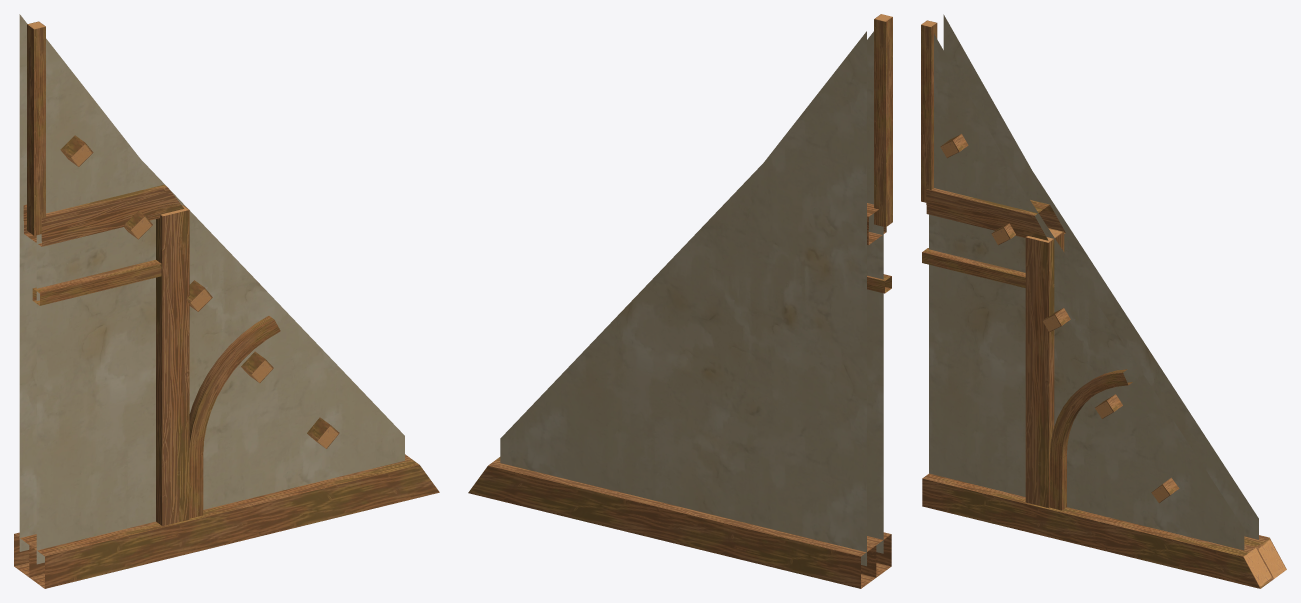
Rendered from Roof_Front_Brick6_Half_R.gltf.
The picture shows the model from 3 angles, left to right: view 1: azimuth 30°, elevation 25°; view 2: azimuth 150°, elevation 25°; view 3: azimuth 330°, elevation 25°; orthographic projection. The views are drawn at different scales.
Parts seen in each view (by area): view 1: Roof_Front_Brick6_Half_R; view 2: Roof_Front_Brick6_Half_R; view 3: Roof_Front_Brick6_Half_R.
Boxes of the visible parts, box(x1,y1,x2,y2) form: Roof_Front_Brick6_Half_R: box(14, 14, 439, 588); Roof_Front_Brick6_Half_R: box(468, 14, 892, 588); Roof_Front_Brick6_Half_R: box(921, 14, 1286, 588).
Size of the model in its own units: 3.4 by 4.52 by 0.4896.
2 materials, 2 textured.
